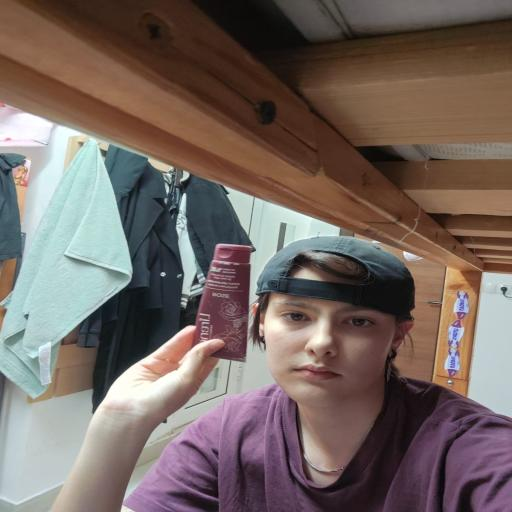Crema Maini: (194, 241, 254, 366)
